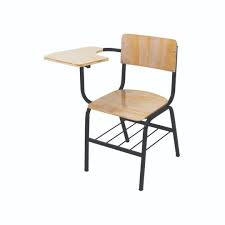desk_055.jpg: (38, 24, 188, 195)
